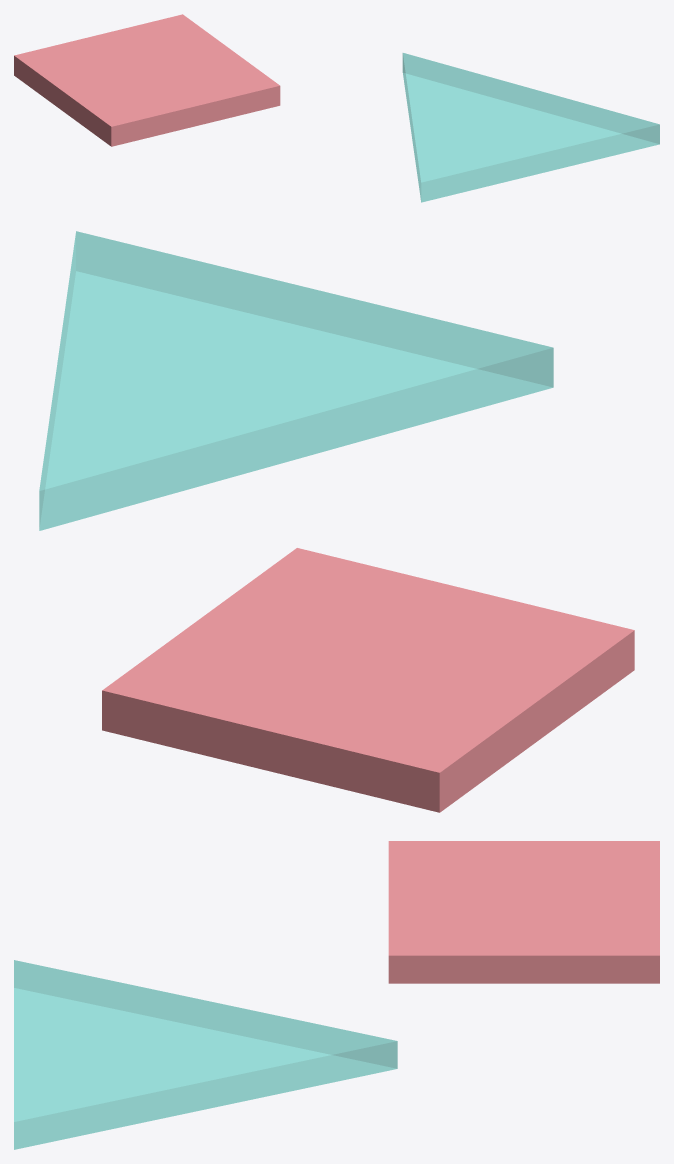
The model's file is farfalla_step3.glb.
3 views of the same model, one above another, from view 1: azimuth 30°, elevation 25°; view 2: azimuth 150°, elevation 25°; view 3: azimuth 270°, elevation 25° (orthographic). The views are drawn at different scales.
Parts seen in each view (by area): view 1: rombo, triangolo_isoscele_piccolo; view 2: rombo, triangolo_isoscele_piccolo; view 3: triangolo_isoscele_piccolo, rombo.
Boxes of the visible parts, <box> form: rombo: <box>14,14,280,146</box>; triangolo_isoscele_piccolo: <box>402,53,659,202</box>; rombo: <box>102,548,634,812</box>; triangolo_isoscele_piccolo: <box>39,231,553,530</box>; triangolo_isoscele_piccolo: <box>14,960,397,1149</box>; rombo: <box>388,841,659,983</box>.
Size of the model in its own units: 1.73 by 0.08 by 1.68.
